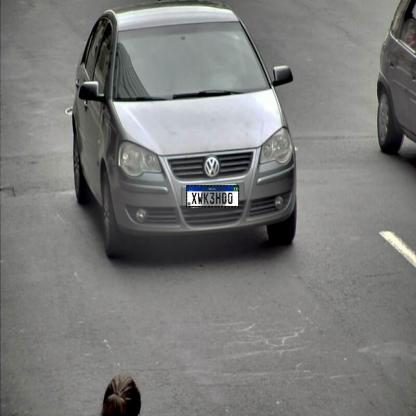PlacaM: (186, 185, 239, 207)
